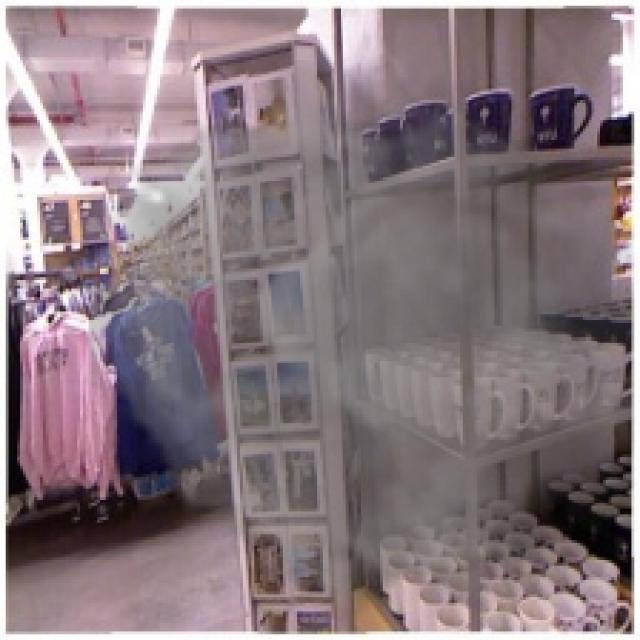smoke: (89, 60, 634, 629)
